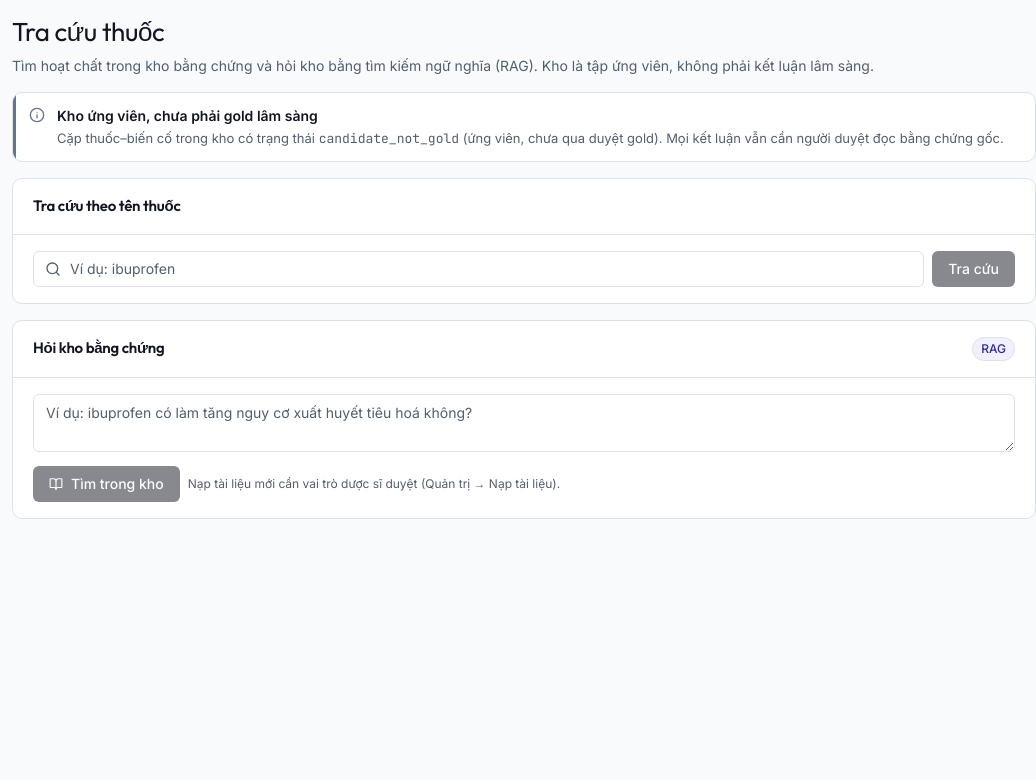
Test: /app/drugs — tra cứu thuốc › nhập tên thuốc rồi gửi thì hiện kết quả tra cứu
The width and height of the screenshot is (1036, 780).
In the field named "Tên thuốc cần tra cứu": (479, 269) [33,251,924,287], type "ibuprofen"
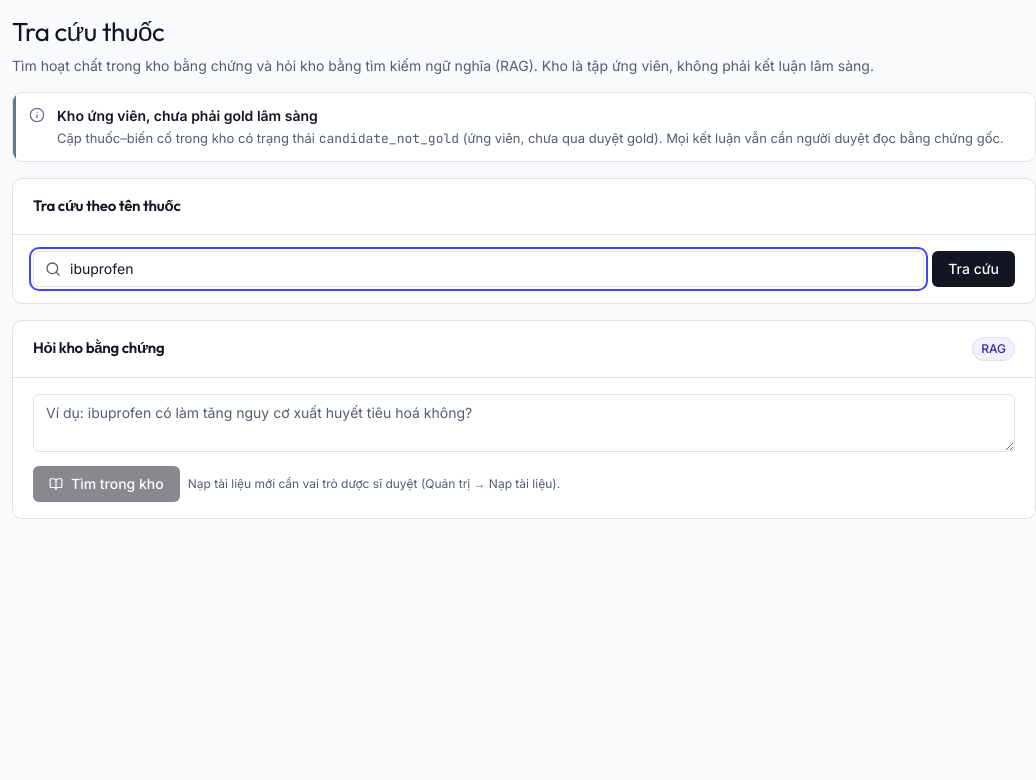
Click the button "Tra cứu": (974, 269) [932,251,1015,287]
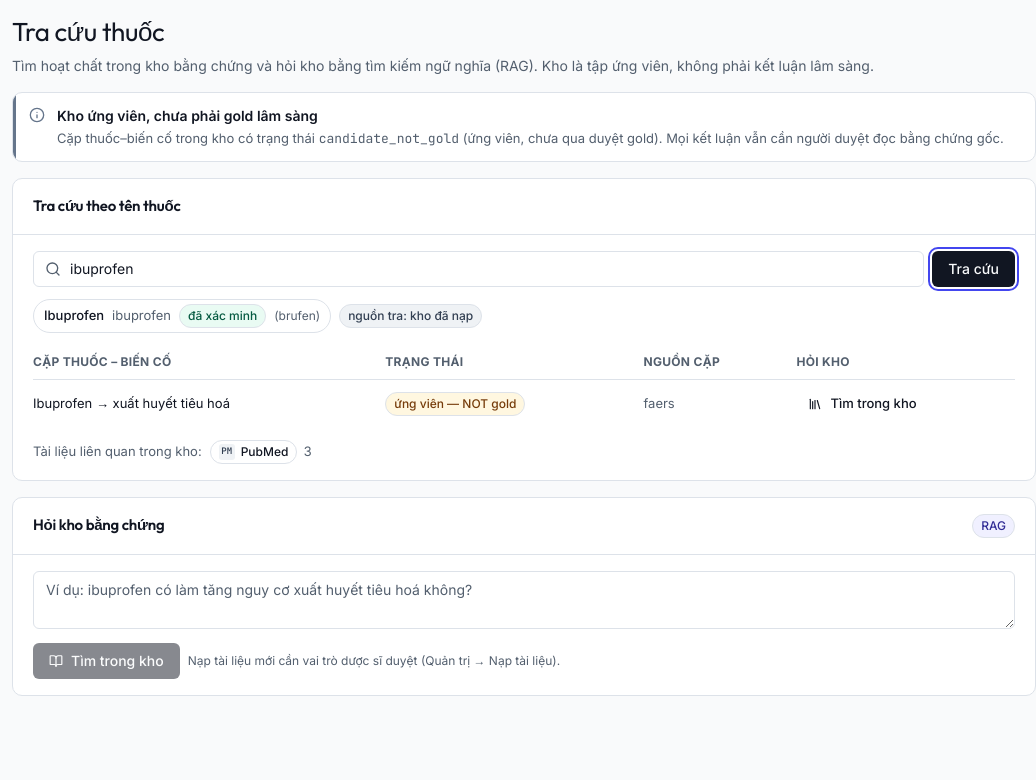
Check: the text "Ibuprofen" is shown, box [44,306,104,325]
Check: the text "đã xác minh" is shown, box [179,304,266,328]
Check: the text "Ibuprofen → xuất huyết tiêu hoá" is shown, box [33,379,385,428]
